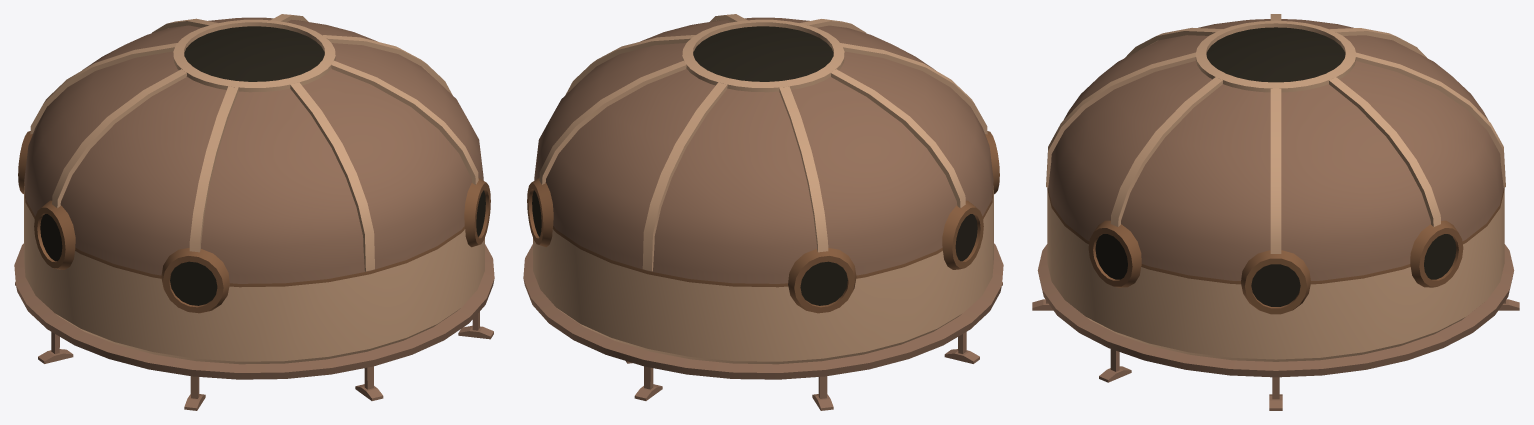
File: base_large.glb
3 renders of one model, left to right at view 1: azimuth 30°, elevation 25°; view 2: azimuth 150°, elevation 25°; view 3: azimuth 270°, elevation 25°, orthographic.
Parts seen in each view (by area): view 1: Base_Large; view 2: Base_Large; view 3: Base_Large.
Part boxes in pixels (x1,y1,x2,y2): Base_Large: (14, 14, 494, 410); Base_Large: (523, 14, 1003, 410); Base_Large: (1032, 14, 1519, 410).
Size of the model in its own units: 8.53 by 4.97 by 8.53.
Materials: 1 (1 with a texture image).
